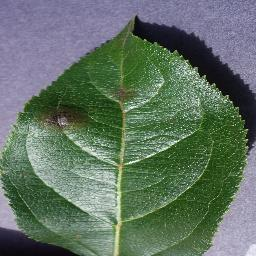apple healthy: (0, 13, 251, 255)
